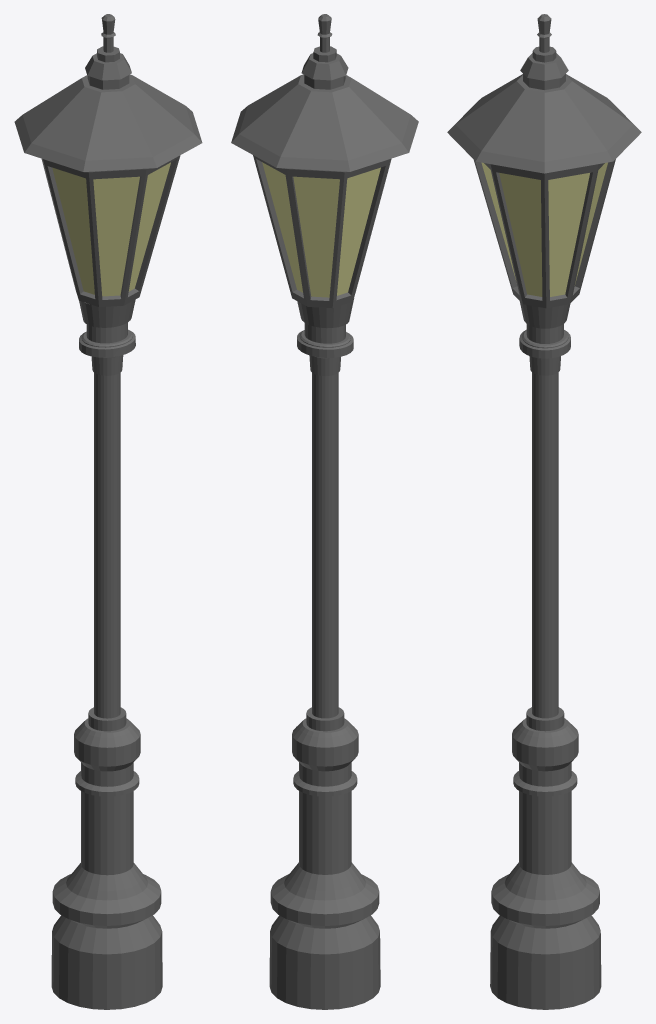
Rendered from posteA.fbx.
The picture shows the model from 3 angles, left to right: view 1: azimuth 30°, elevation 25°; view 2: azimuth 150°, elevation 25°; view 3: azimuth 270°, elevation 25°; orthographic projection.
Visible parts, largest first — view 1: pCylinder3; view 2: pCylinder3; view 3: pCylinder3.
Part boxes in pixels (x1=…): pCylinder3: x1=14, y1=14, x2=202, y2=1009; pCylinder3: x1=231, y1=14, x2=418, y2=1009; pCylinder3: x1=447, y1=14, x2=641, y2=1009.
Size of the model in its own units: 33.74 by 186 by 33.74.
